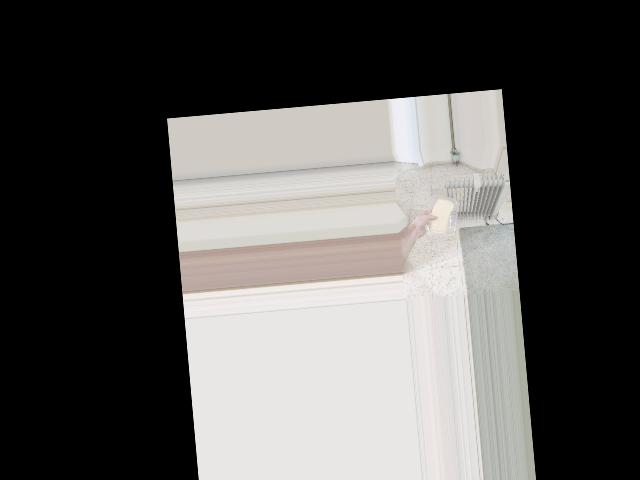cheese: (424, 194, 457, 237)
